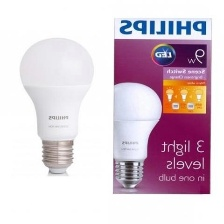book: (109, 11, 214, 198)
light_bulb: (16, 32, 98, 180)
